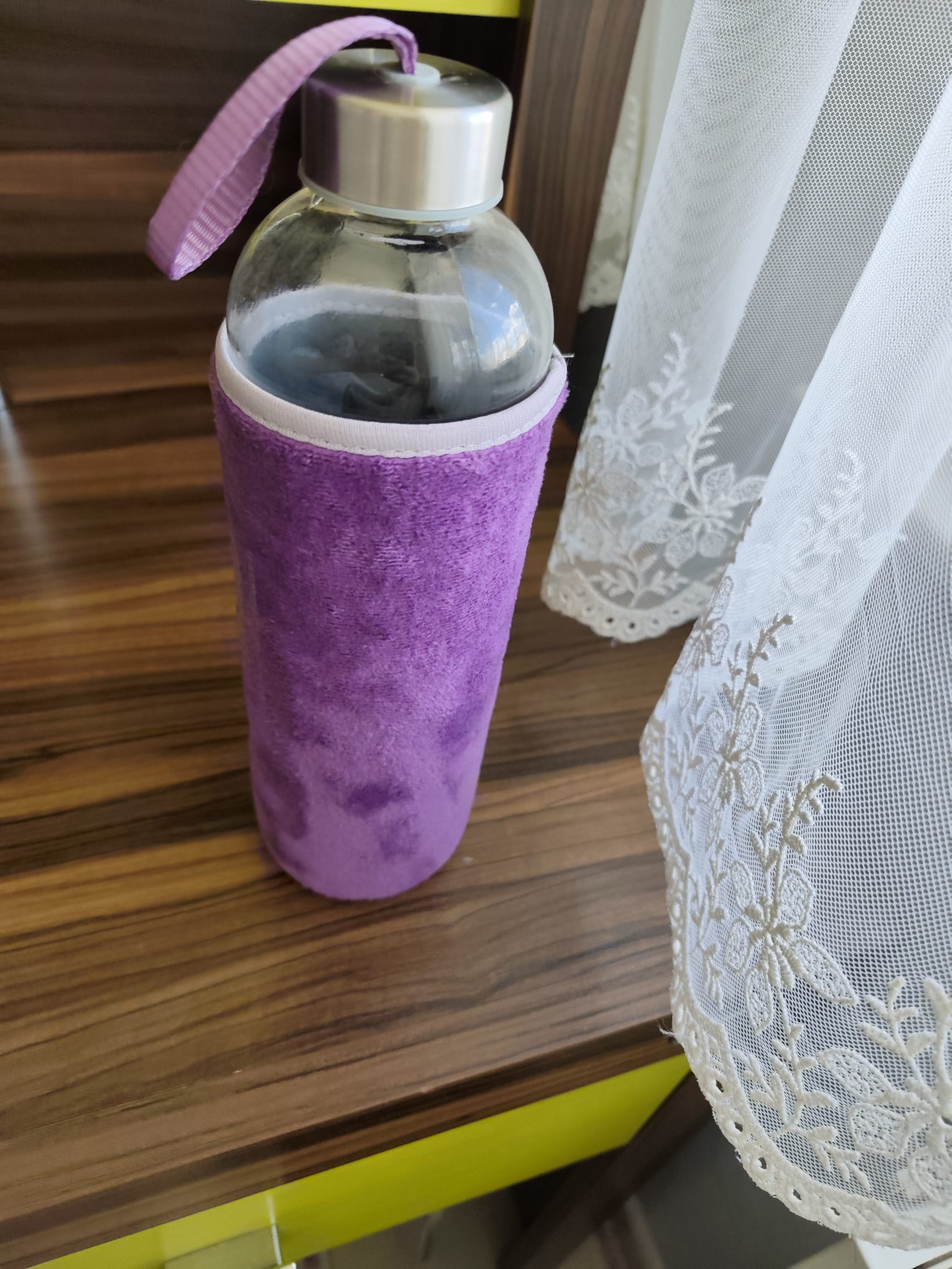su_sisesi: (143, 13, 571, 944)
